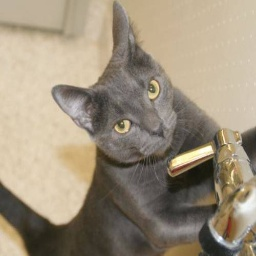cat: (42, 3, 234, 256)
